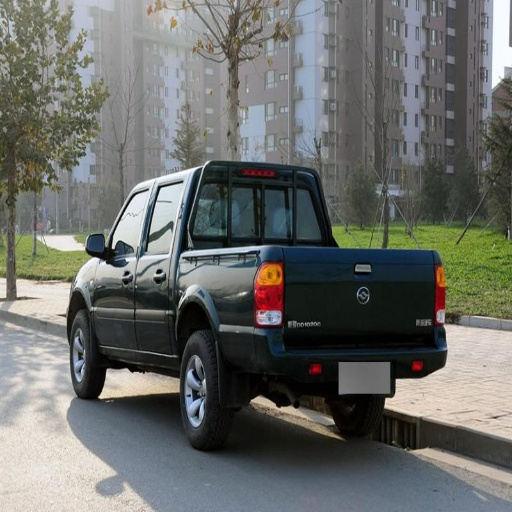back_glass: (136, 199, 175, 352)
back_left_light: (191, 171, 232, 323), (231, 172, 254, 216)
back_right_door: (432, 264, 445, 333)
front_glass: (95, 187, 149, 349)
tailgate: (222, 246, 430, 373), (173, 261, 201, 331)
trunk: (181, 332, 232, 449), (69, 311, 104, 398)
